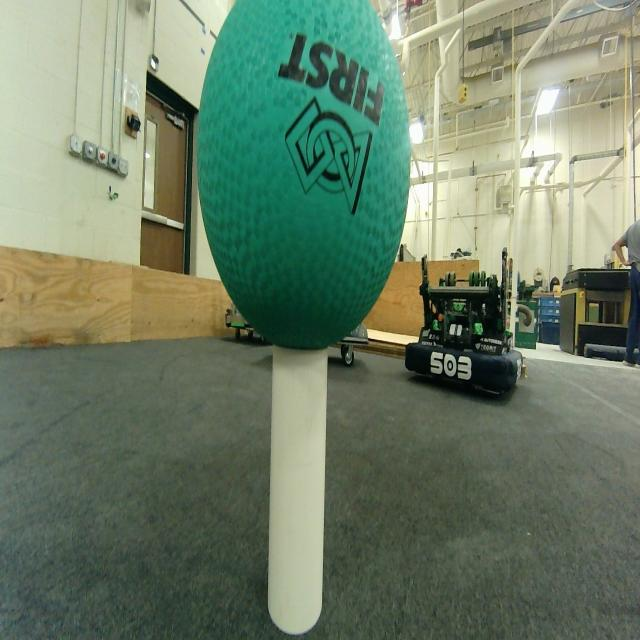algae: (197, 0, 419, 356)
coral: (263, 333, 338, 636)
